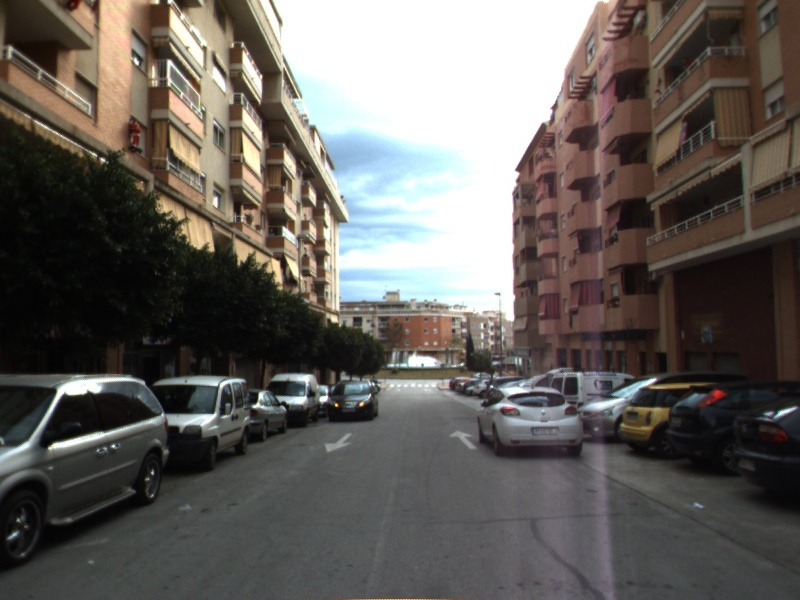STRAIGHT: (447, 428, 480, 451)
